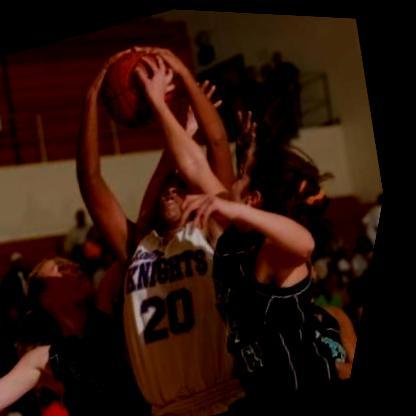basketball: (83, 30, 201, 139)
